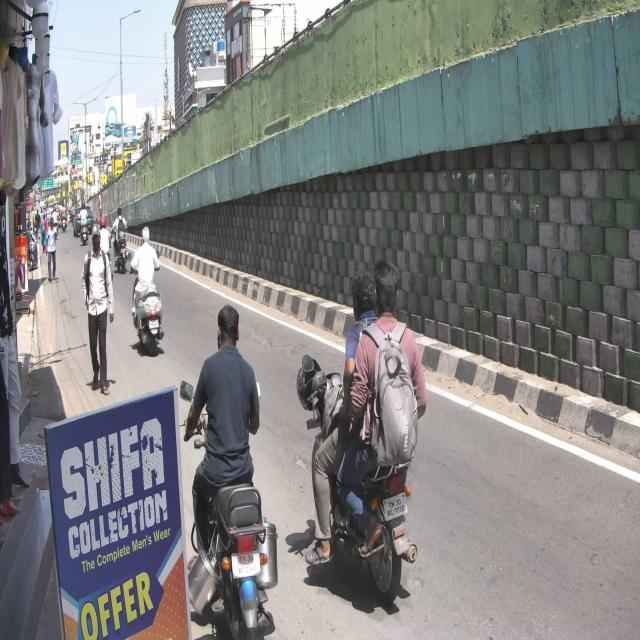double_rider: (304, 255, 427, 600)
single_rider: (184, 300, 280, 640)
